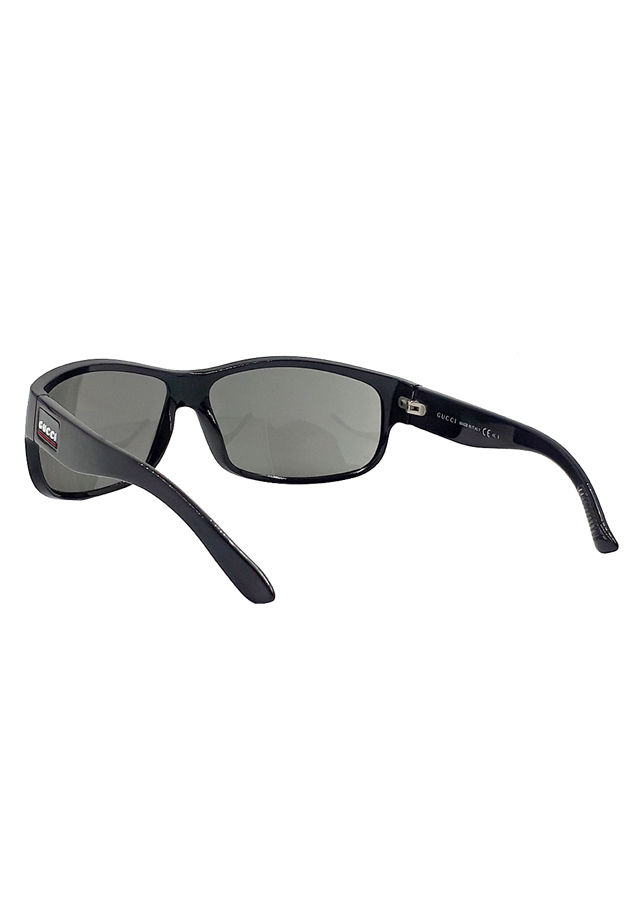Gucci: (29, 407, 71, 456), (432, 401, 459, 428)
